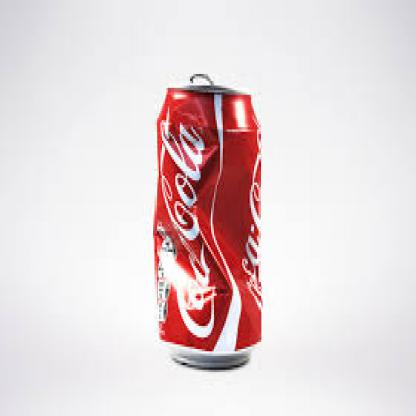METAL: (153, 83, 260, 370)
